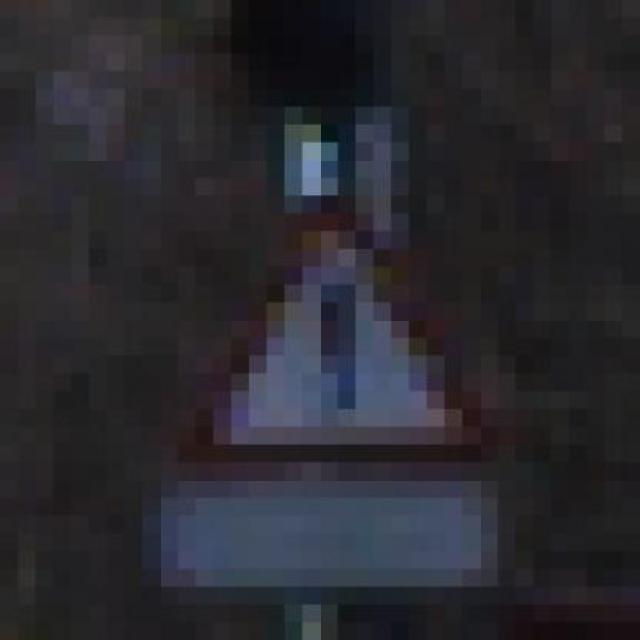Attention Please-: (178, 176, 498, 478)
